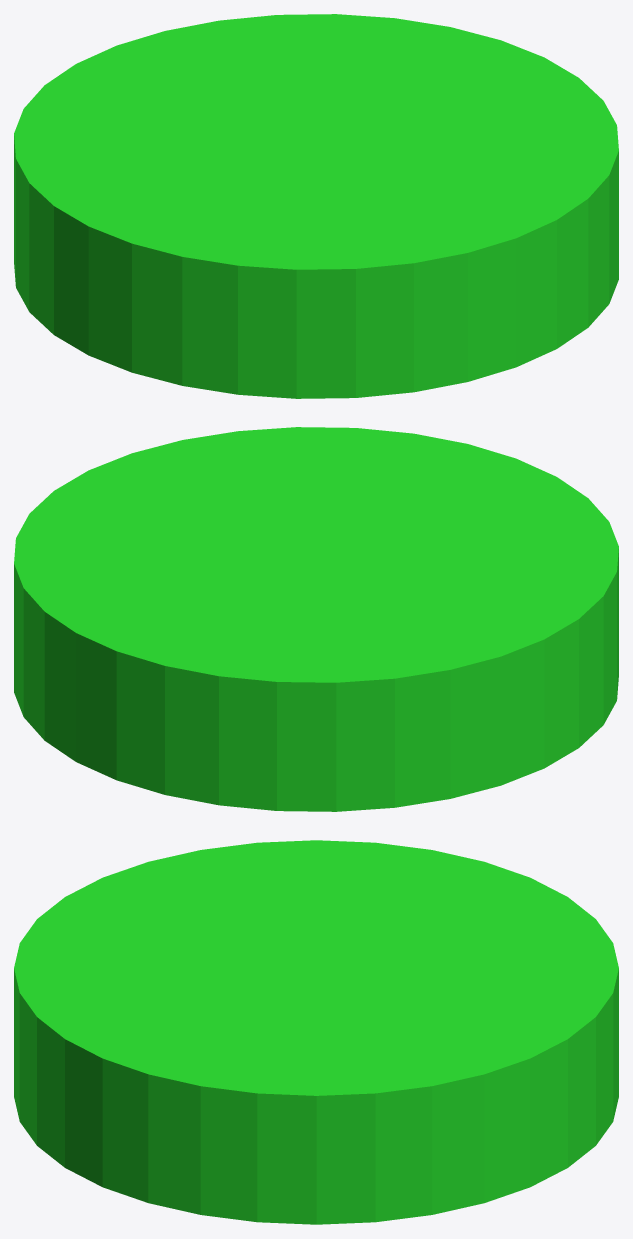
The model's file is item-jardinParque05.glb.
3 renders of one model, top to bottom at view 1: azimuth 30°, elevation 25°; view 2: azimuth 150°, elevation 25°; view 3: azimuth 270°, elevation 25°, orthographic.
Parts seen in each view (by area): view 1: jardinParque005; view 2: jardinParque005; view 3: jardinParque005.
Part boxes in pixels (x1,y1,x2,y2): jardinParque005: (14,14,618,398); jardinParque005: (14,427,618,811); jardinParque005: (14,840,618,1224).
Size of the model in its own units: 3.5 by 0.8223 by 3.5.
